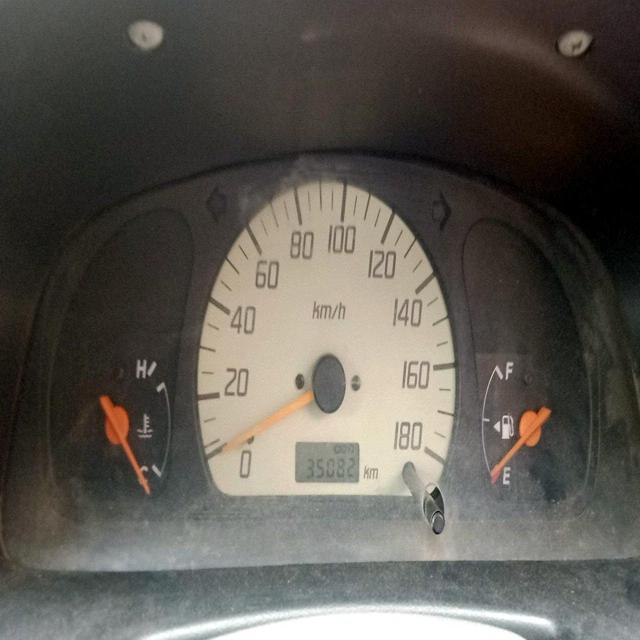odometer: (305, 454, 357, 484)
